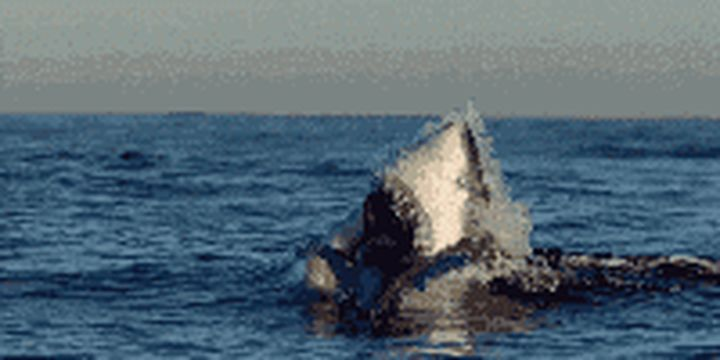shark: (292, 85, 544, 360)
